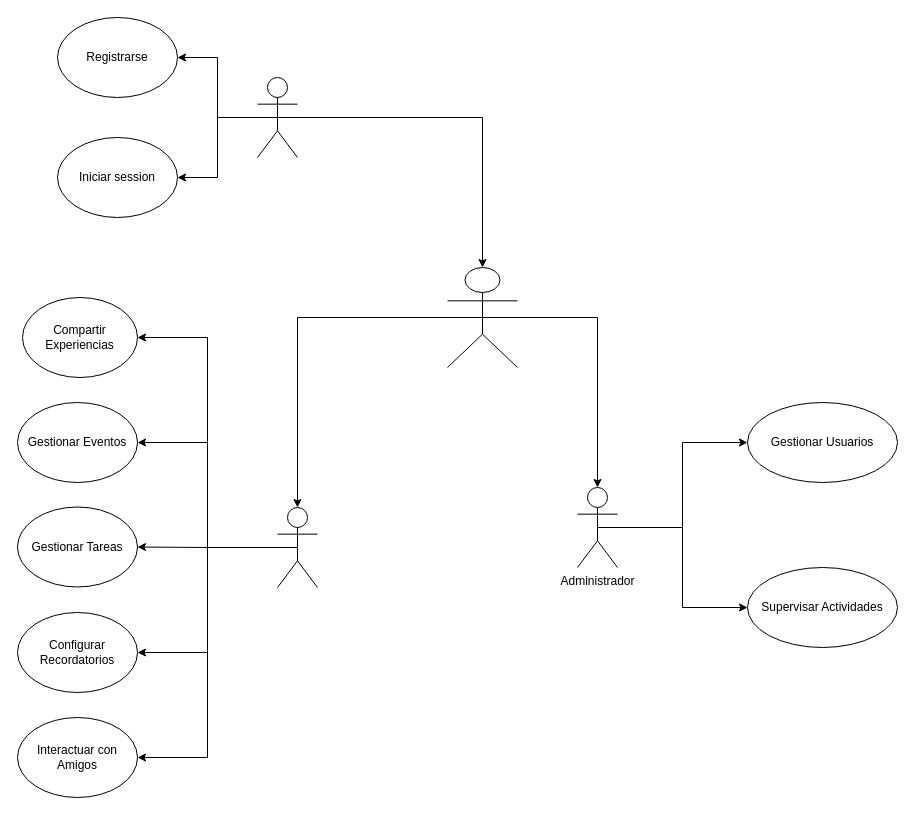
Image size: 915x815. Some labels were removed from this diagram. Each missing label, with the centre of its shape:
"Autenticador" belongs at pixel 482 317.
"Client" belongs at pixel 297 547.
"Visitant" belongs at pixel 277 117.
